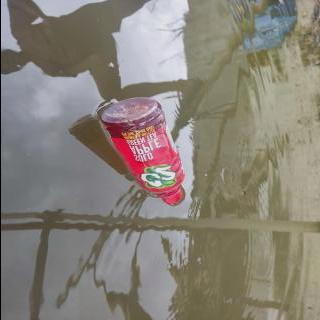bottle: (95, 96, 188, 207)
